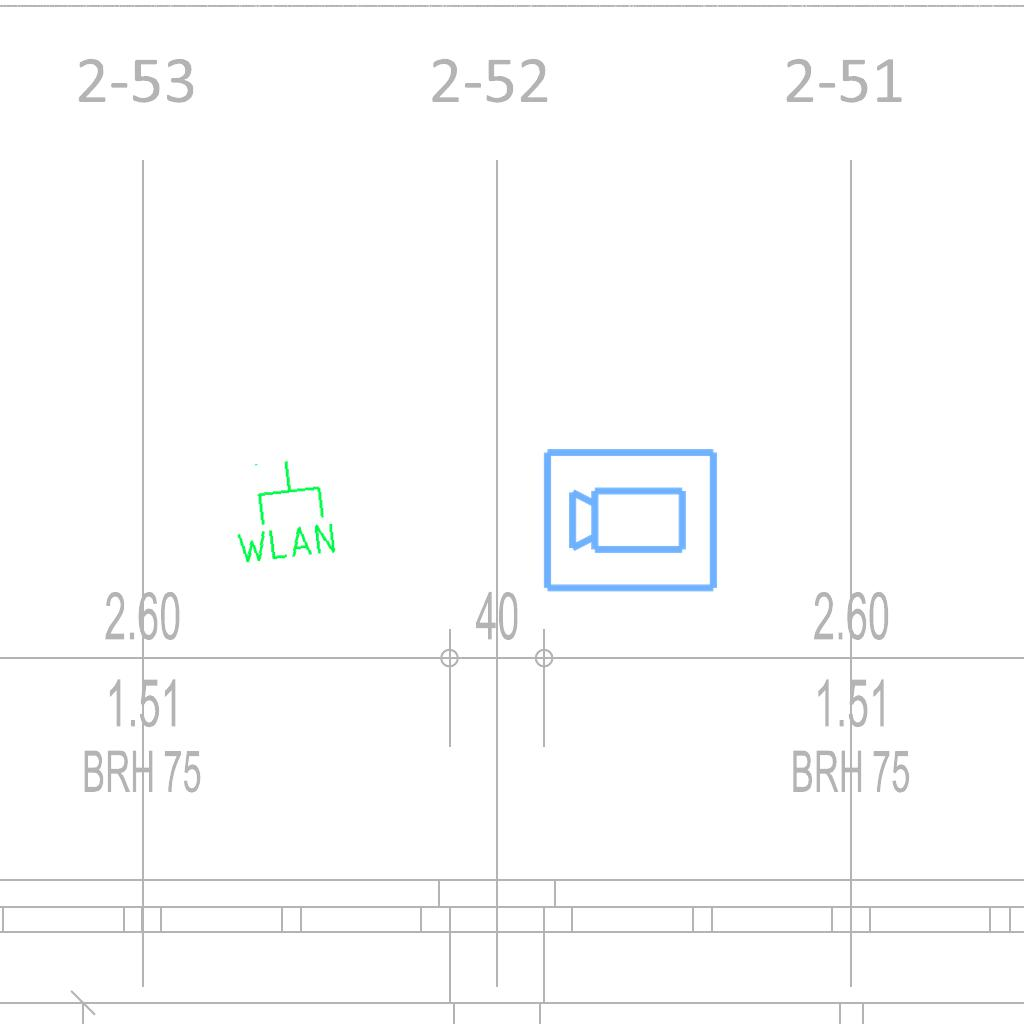KFO_Kamera_mit_Festobjektiv: (540, 442, 722, 596)
WLAN: (223, 452, 341, 569)
